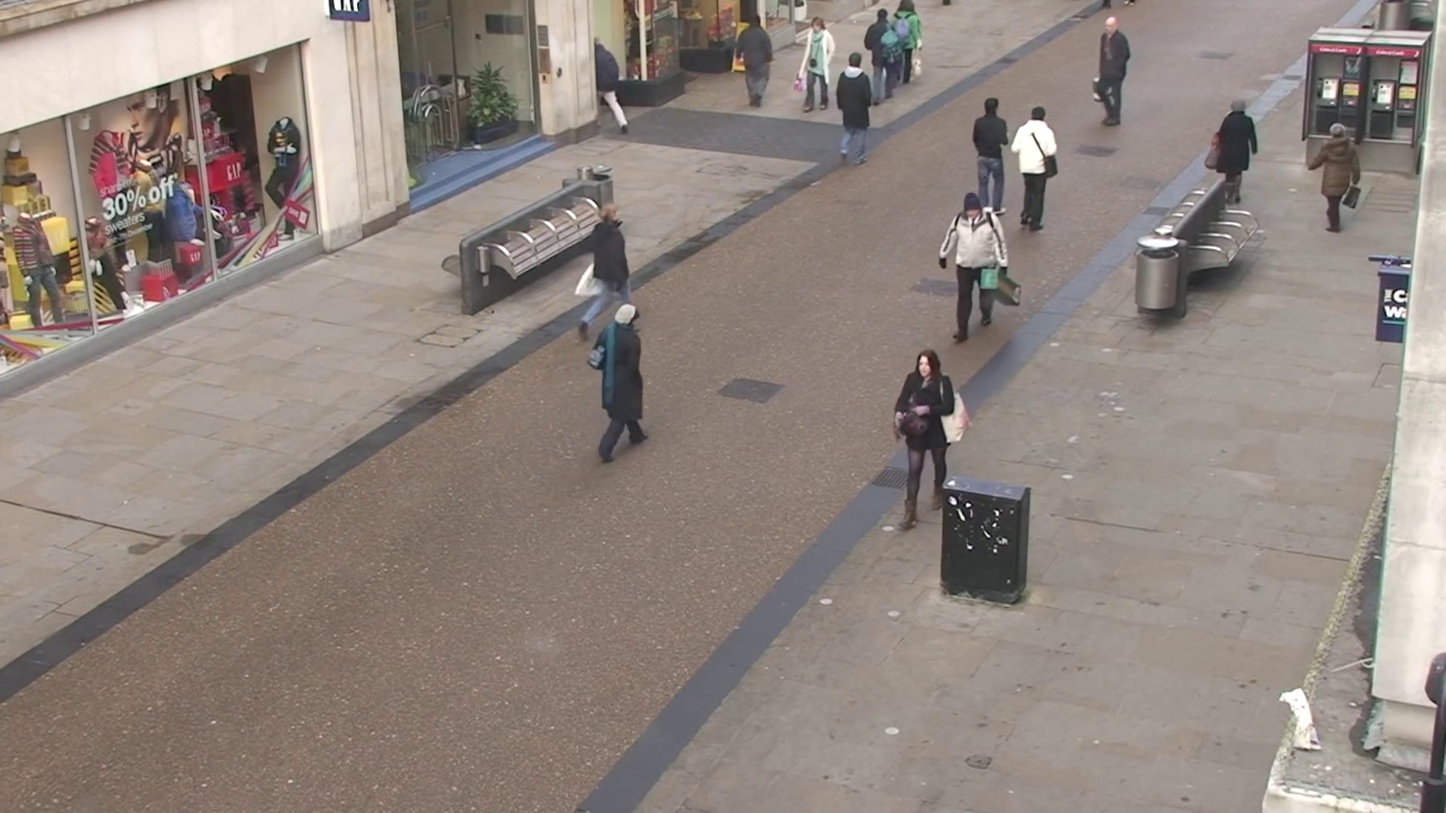person: (889, 349, 968, 533), (938, 191, 1019, 341), (578, 191, 655, 335), (587, 300, 648, 464), (1011, 102, 1058, 233), (1311, 121, 1359, 234), (1209, 100, 1258, 210), (592, 41, 645, 139), (833, 50, 875, 163), (970, 96, 1010, 212), (264, 117, 304, 233), (1094, 15, 1132, 127), (892, 6, 939, 88), (865, 7, 901, 112), (733, 14, 773, 107), (801, 20, 834, 114)
